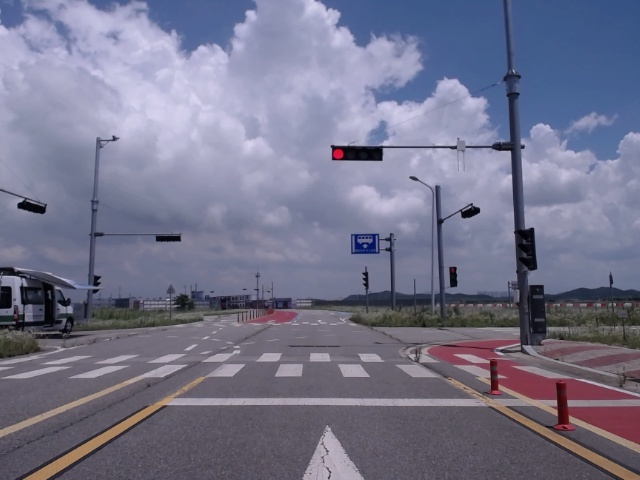red_4: (332, 148, 382, 162)
